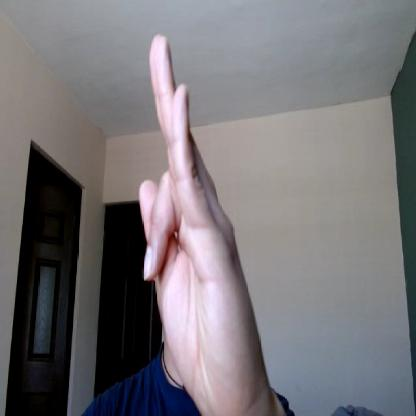F: (138, 33, 261, 415)
